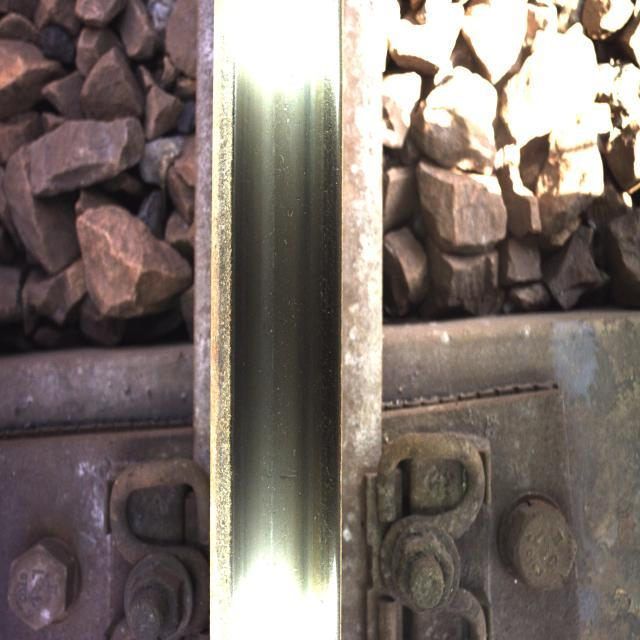break: (241, 54, 324, 626)
